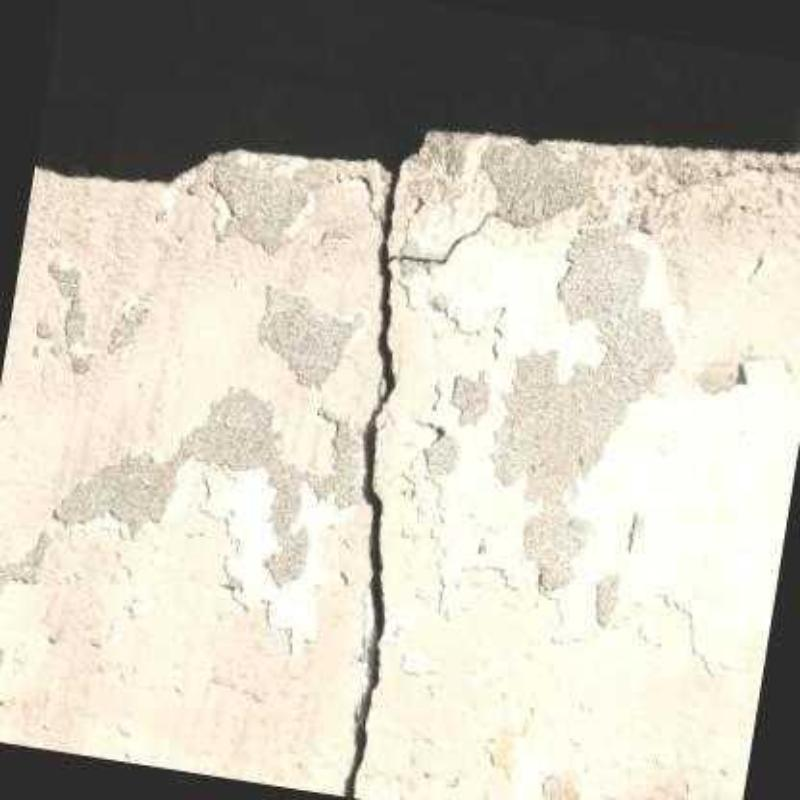crack: (342, 166, 401, 797), (389, 212, 495, 264)
